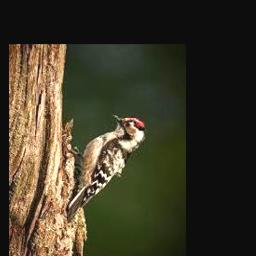Woodpecker: (68, 114, 147, 221)
